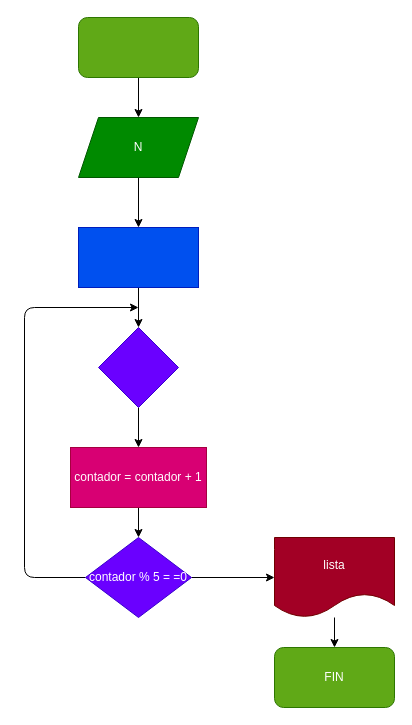
The diagram is 412 pixels wide and 725 high, and some of its shapes have lost their labels. The shapes that lost their labels are listed below. From the top down, each one's centre as x and y in pixels, then its label:
At pixel 138 47: "INICIO".
At pixel 138 257: "contador = 0 lista = [ ]".
At pixel 138 367: "contador < n".
